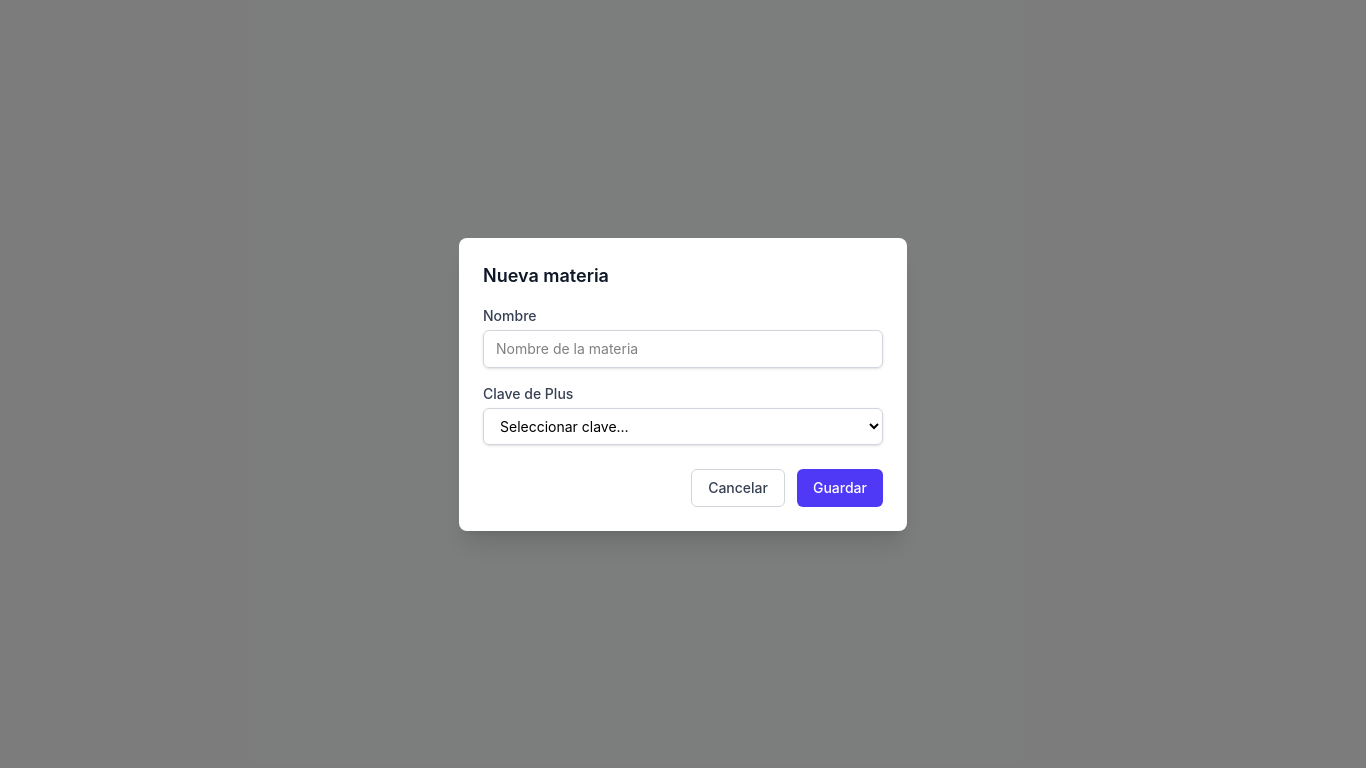
Test case: MateriaFormDialog › submit sin clave_plus muestra error de validación Zod
The width and height of the screenshot is (1366, 768).
In the field with placeholder "Nombre de la materia": coordinates (683, 348) [483,330,883,368], type "Matemáticas"
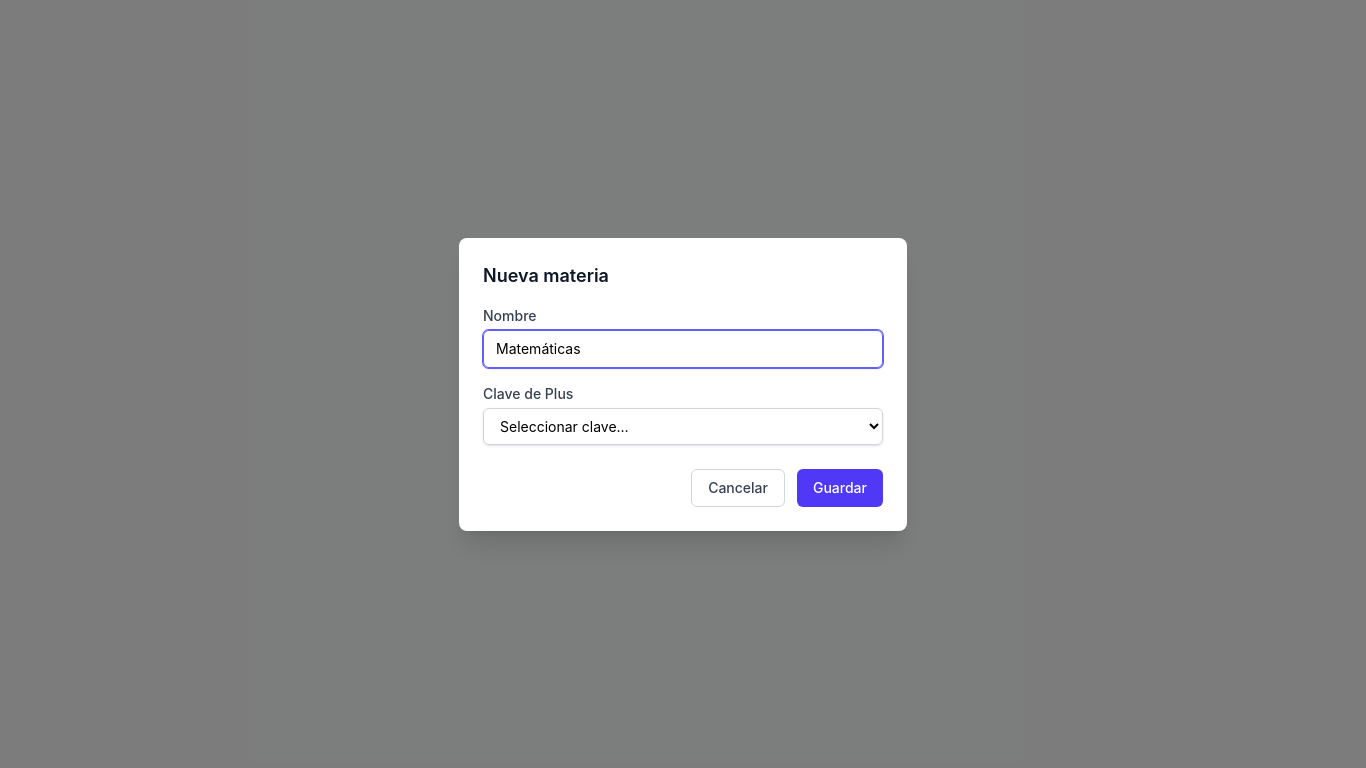
Click the button "Guardar": coordinates (840, 488) [797,468,883,506]
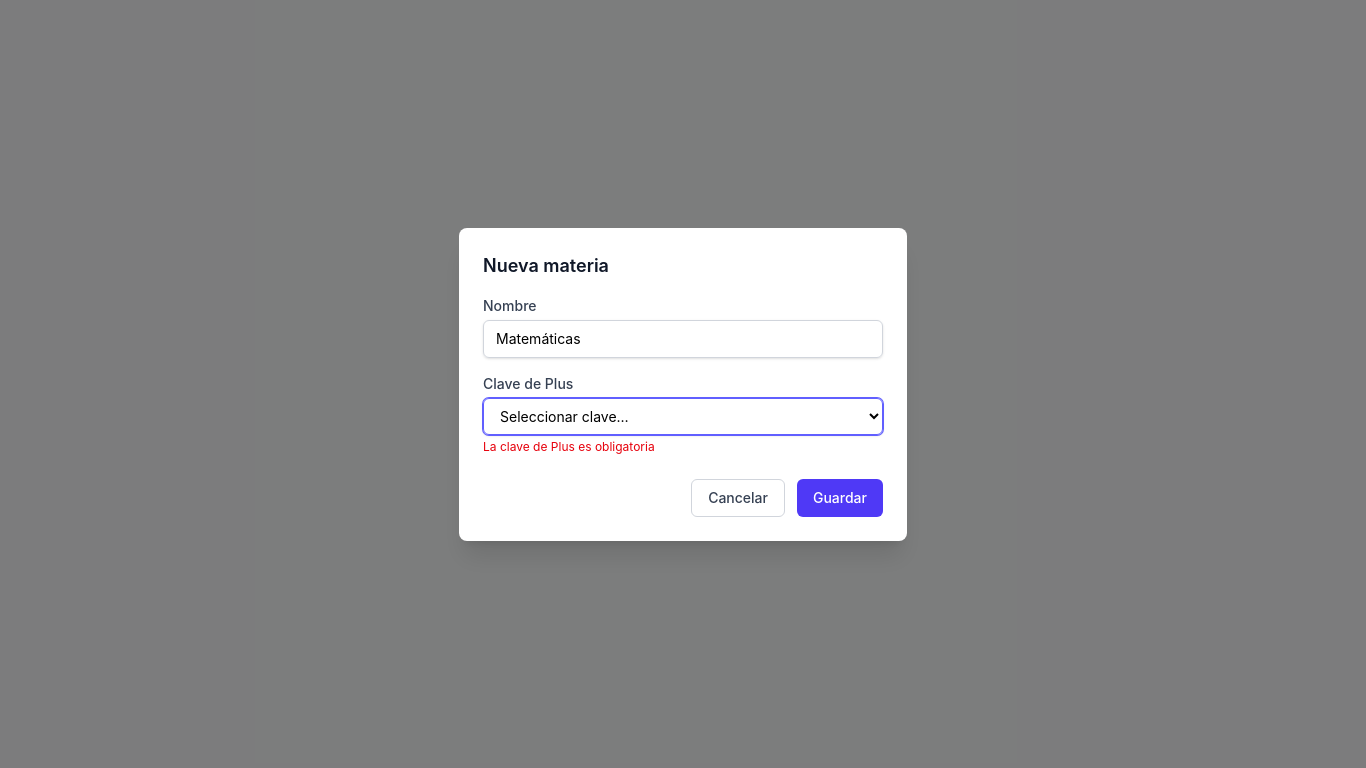
Expected: the text "La clave de Plus es obligatoria" is shown, [483,438,655,454]
